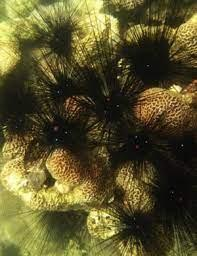urchin: (20, 6, 103, 74), (114, 26, 190, 89), (97, 188, 165, 256), (135, 157, 197, 230), (74, 77, 155, 132), (21, 60, 100, 112), (19, 191, 79, 256), (28, 98, 86, 152), (105, 123, 164, 173), (138, 129, 197, 173), (0, 93, 40, 144)
